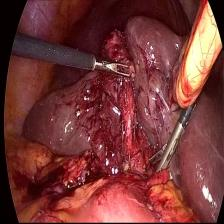Grasper: (148, 120, 184, 175), (91, 50, 130, 86)
